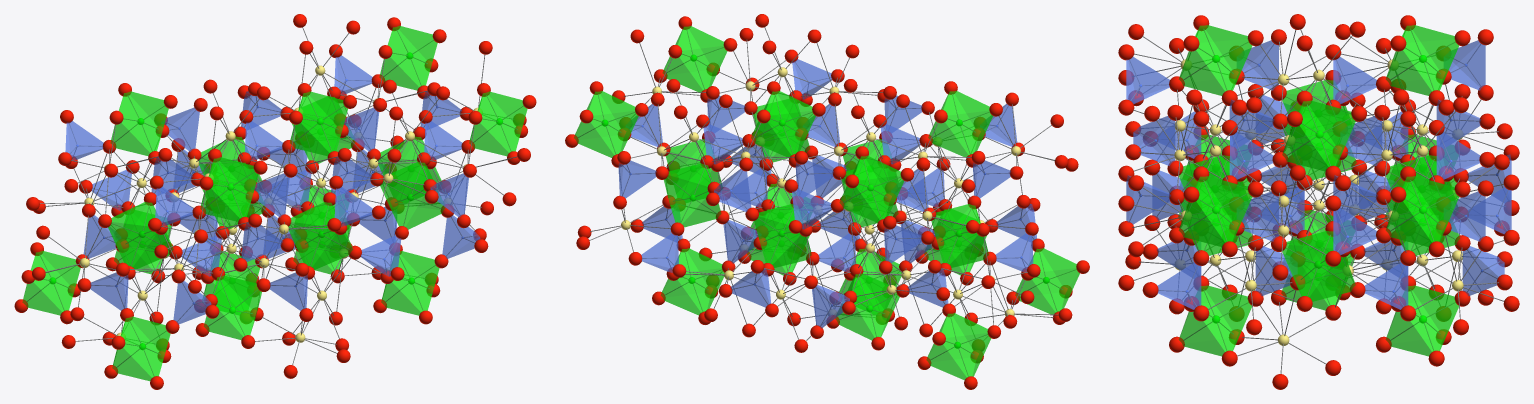
File: NASICON.glb
The picture shows the model from 3 angles, left to right: view 1: azimuth 30°, elevation 25°; view 2: azimuth 150°, elevation 25°; view 3: azimuth 270°, elevation 25°; orthographic projection. The views are drawn at different scales.
Visible parts, largest first — view 1: Shape_IndexedFaceSet, atom10_IndexedFaceSet, Shape_IndexedFaceSet.160, Shape_Cylinder, atom0_IndexedFaceSet, atom3_IndexedFaceSet; view 2: Shape_IndexedFaceSet, atom10_IndexedFaceSet, Shape_IndexedFaceSet.160, Shape_Cylinder, atom0_IndexedFaceSet, atom3_IndexedFaceSet; view 3: atom10_IndexedFaceSet, Shape_IndexedFaceSet, Shape_IndexedFaceSet.160, Shape_Cylinder, atom0_IndexedFaceSet, atom3_IndexedFaceSet.
Part boxes in pixels (bbox=[...]): Shape_IndexedFaceSet: bbox=[22, 25, 527, 381]; atom10_IndexedFaceSet: bbox=[14, 14, 536, 389]; Shape_IndexedFaceSet.160: bbox=[65, 55, 480, 324]; Shape_Cylinder: bbox=[26, 27, 523, 376]; atom0_IndexedFaceSet: bbox=[79, 65, 482, 342]; atom3_IndexedFaceSet: bbox=[49, 52, 502, 350]; Shape_IndexedFaceSet: bbox=[574, 26, 1079, 380]; atom10_IndexedFaceSet: bbox=[565, 14, 1089, 389]; Shape_IndexedFaceSet.160: bbox=[618, 59, 1036, 328]; Shape_Cylinder: bbox=[577, 27, 1076, 376]; atom0_IndexedFaceSet: bbox=[621, 67, 1020, 316]; atom3_IndexedFaceSet: bbox=[601, 54, 1049, 348]; atom10_IndexedFaceSet: bbox=[1118, 14, 1519, 389]; Shape_IndexedFaceSet: bbox=[1178, 25, 1459, 356]; Shape_IndexedFaceSet.160: bbox=[1126, 40, 1511, 309]; Shape_Cylinder: bbox=[1129, 29, 1508, 373]; atom0_IndexedFaceSet: bbox=[1174, 59, 1463, 345]; atom3_IndexedFaceSet: bbox=[1212, 55, 1426, 323].
Size of the model in its own units: 26.99 by 12.92 by 17.57.
